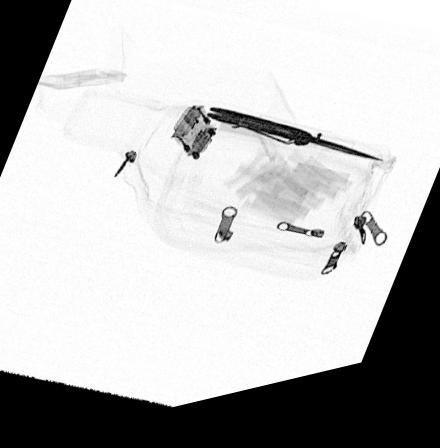Knife: (205, 116, 385, 180)
